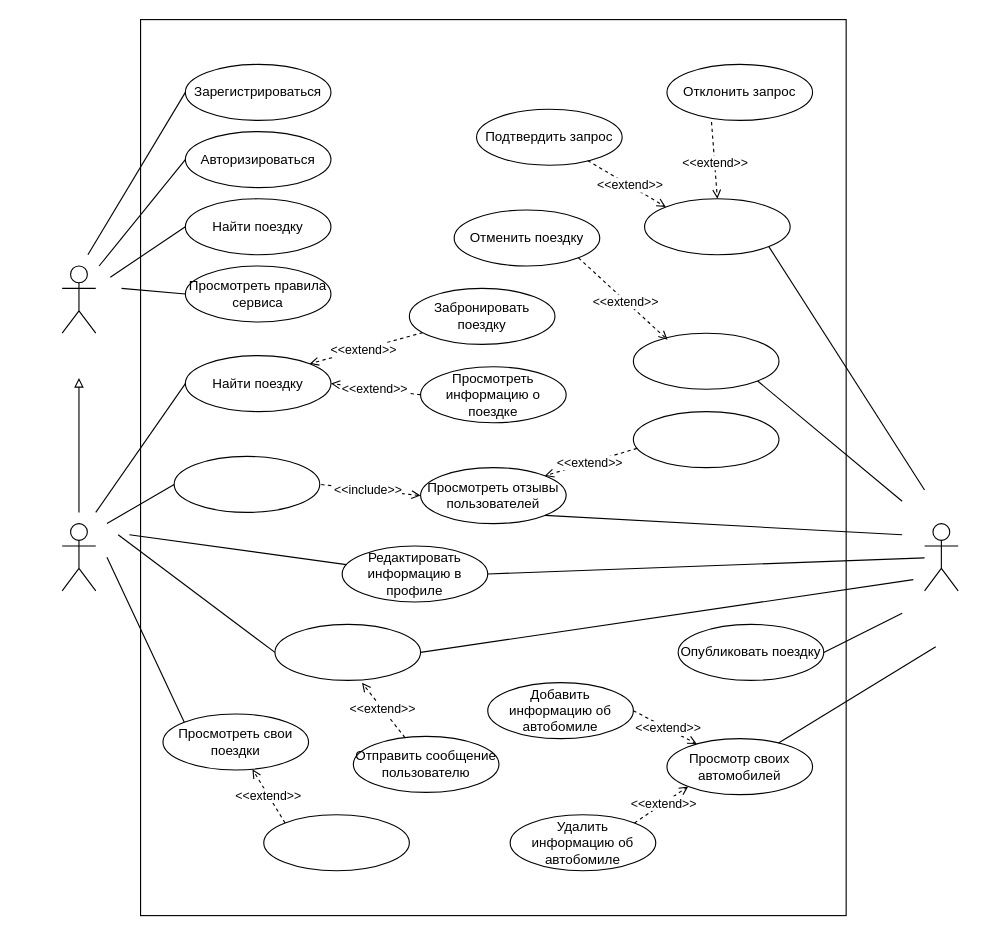
Some shapes in this 990 by 935 pixel diagram are drawn without their labels. Each missing label, with the centre of its shape:
Водитель: pixel 940 556
Неавторизованный пользователь: pixel 78 299
Оставить отзыв о пользователе: pixel 705 439
Отменить запрос на поездку: pixel 336 842
Пассажир: pixel 78 556
Просмотреть запросы на поездку: pixel 716 226
Просмотреть профиль водителя: pixel 246 483
Просмотреть свои чаты: pixel 347 651
Просмотреть созданные поездки: pixel 705 360
